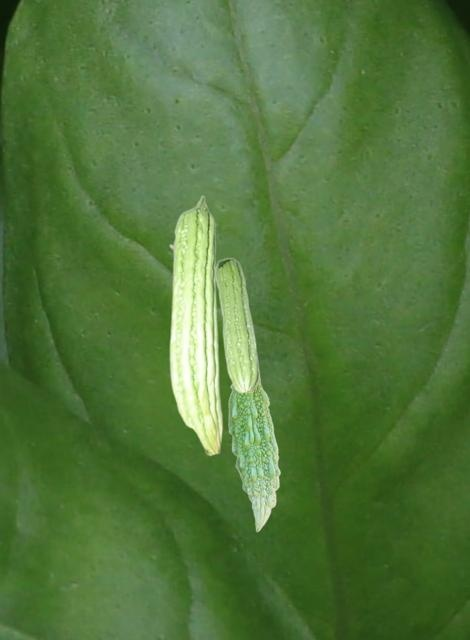ampalaya: (167, 195, 224, 457), (228, 379, 281, 532), (212, 256, 261, 395)
